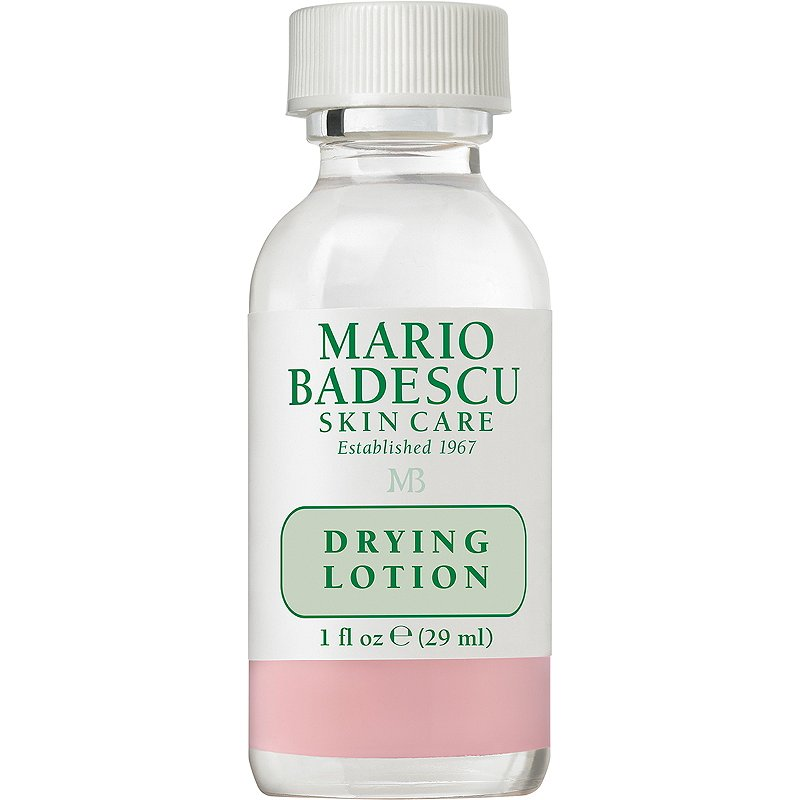glass_bottle: (241, 1, 562, 800)
